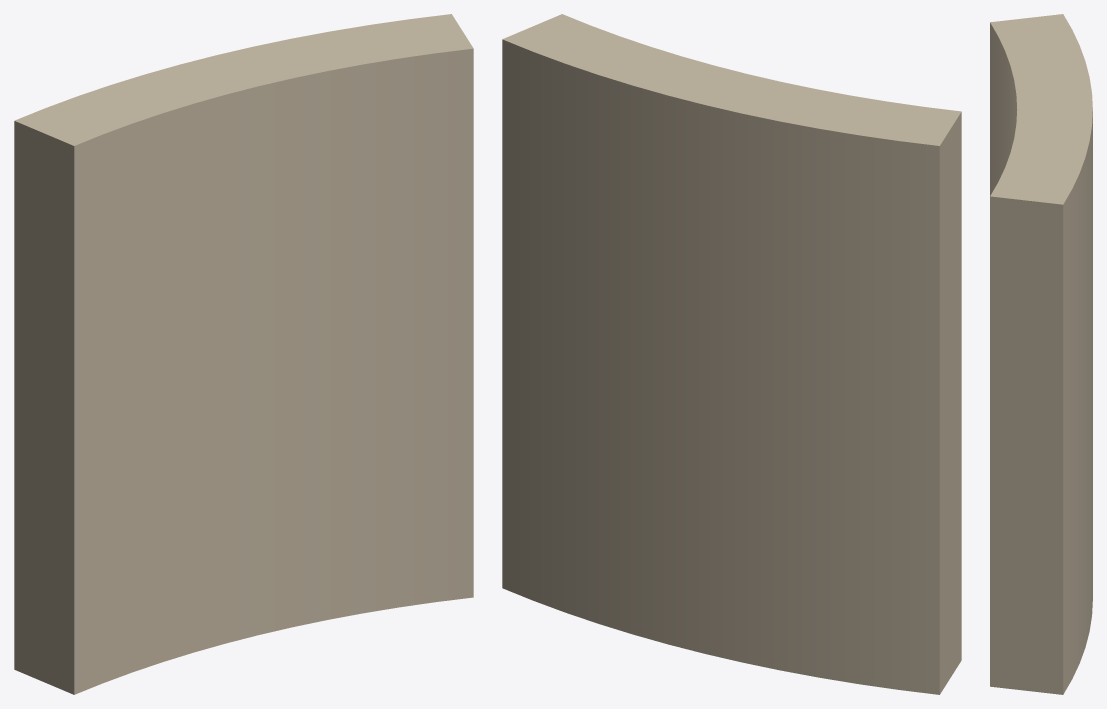
Rendered from Furn_Tower3_R50_Plain.fbx.
3 views of the same model, side by side, from view 1: azimuth 30°, elevation 25°; view 2: azimuth 150°, elevation 25°; view 3: azimuth 270°, elevation 25° (orthographic). The views are drawn at different scales.
Parts seen in each view (by area): view 1: Furn_Tower3_R50_Plain; view 2: Furn_Tower3_R50_Plain; view 3: Furn_Tower3_R50_Plain.
Part boxes in pixels (box(x1,y1,x2,y2)): Furn_Tower3_R50_Plain: box(14, 14, 473, 694); Furn_Tower3_R50_Plain: box(502, 14, 961, 694); Furn_Tower3_R50_Plain: box(990, 14, 1092, 694).
Size of the model in its own units: 2.92 by 3.5 by 0.6655.
